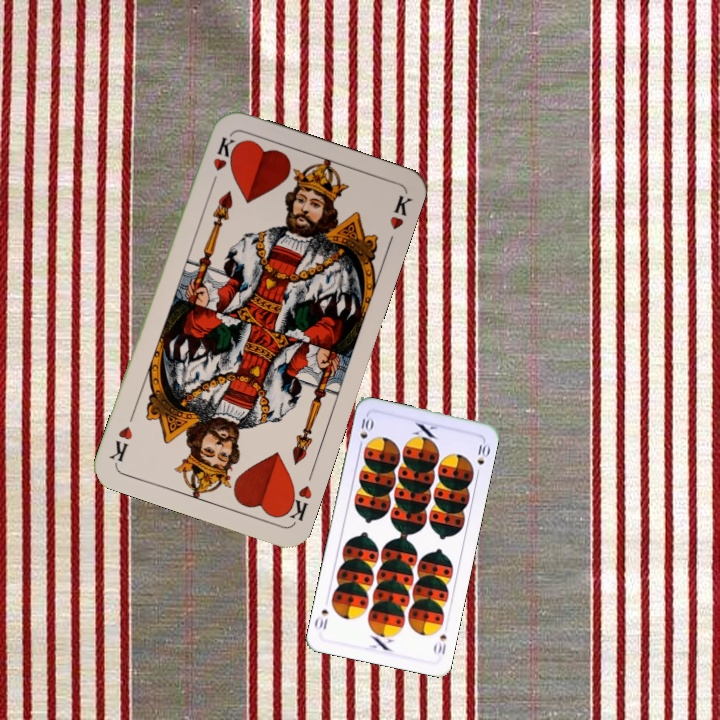HK: (206, 132, 238, 190), (279, 481, 315, 525)
S10: (355, 411, 375, 452), (430, 630, 449, 658)
